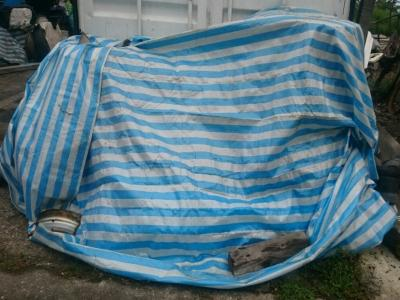plastic_bag: (4, 10, 392, 288)
